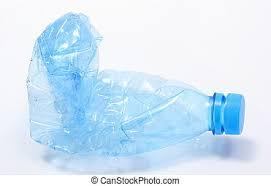plastic: (27, 11, 241, 158)
